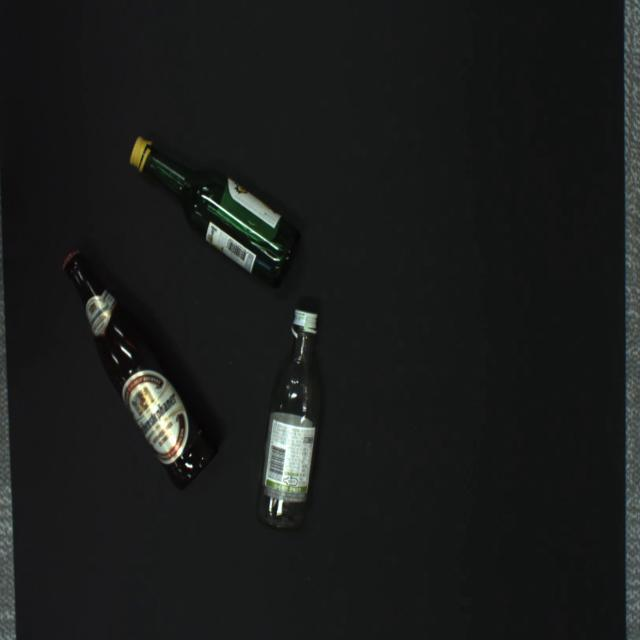beer-bottle: (61, 249, 221, 488)
soju-bottle: (129, 135, 301, 290), (255, 309, 322, 533)
